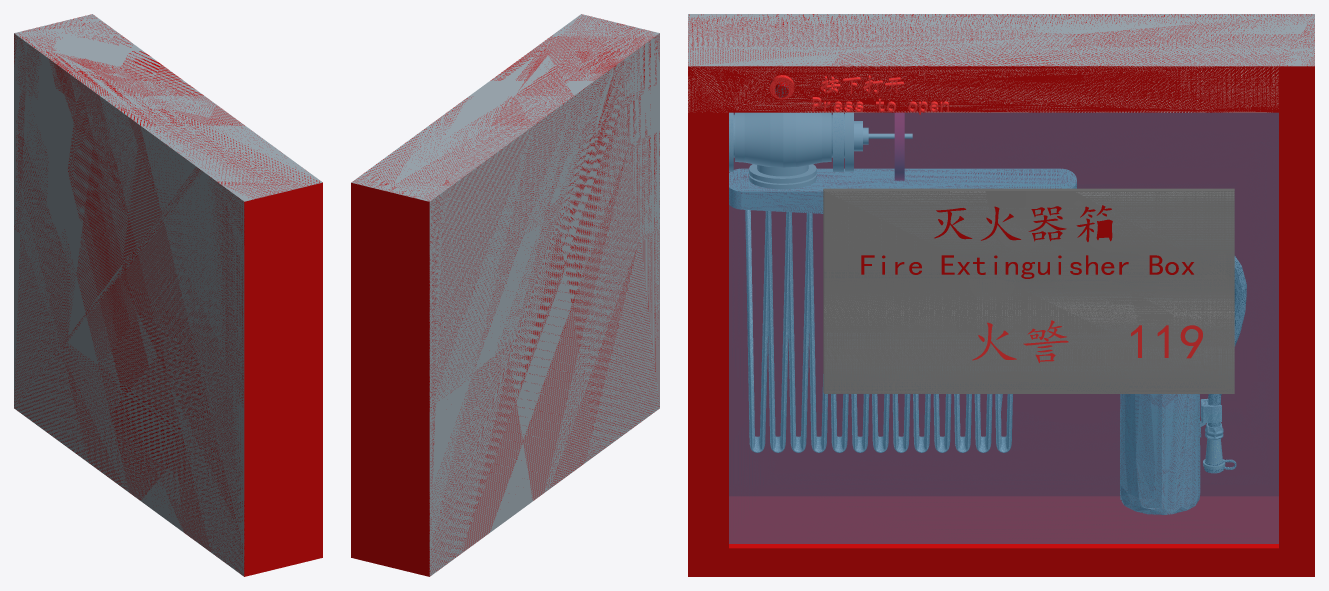
The model's file is BoxCotainhydrantAndExtinguisher.FBX.
3 views of the same model, side by side, from view 1: azimuth 30°, elevation 25°; view 2: azimuth 150°, elevation 25°; view 3: azimuth 270°, elevation 25° (orthographic). The views are drawn at different scales.
Visible parts, largest first — view 1: ID1332, ID1307; view 2: ID1332, ID1307; view 3: ID1307, ID1338, ID1378, ID1332, ID1313, SketchUp, group_12, group_11, group_7, group_6, ID1353, ID762 (+1 smaller).
Part boxes in pixels (left/top/right/bottom): ID1332: left=14, top=14, right=322, bottom=576; ID1307: left=224, top=182, right=322, bottom=576; ID1332: left=351, top=14, right=659, bottom=576; ID1307: left=351, top=35, right=656, bottom=576; ID1307: left=688, top=14, right=1314, bottom=576; ID1338: left=729, top=112, right=1278, bottom=543; ID1378: left=824, top=191, right=1234, bottom=393; ID1332: left=688, top=14, right=1314, bottom=66; ID1313: left=688, top=66, right=1278, bottom=112; SketchUp: left=745, top=210, right=1012, bottom=452; group_12: left=1120, top=394, right=1200, bottom=514; group_11: left=729, top=168, right=1076, bottom=213; group_7: left=735, top=112, right=783, bottom=167; group_6: left=783, top=112, right=831, bottom=167; ID1353: left=823, top=188, right=1234, bottom=393; ID762: left=1120, top=448, right=1154, bottom=498.
Bounding box in the file's own units: 29.88 × 123 × 137.
Materials: 32 (6 with a texture image).
